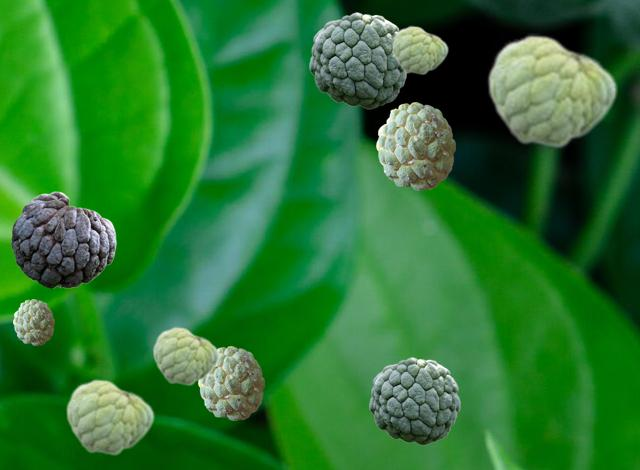atis: (486, 33, 616, 148), (11, 191, 115, 287), (309, 12, 407, 108), (369, 357, 459, 444), (376, 102, 454, 189), (65, 378, 153, 455), (198, 346, 263, 419), (152, 326, 218, 385), (391, 25, 447, 74), (13, 299, 53, 344)
